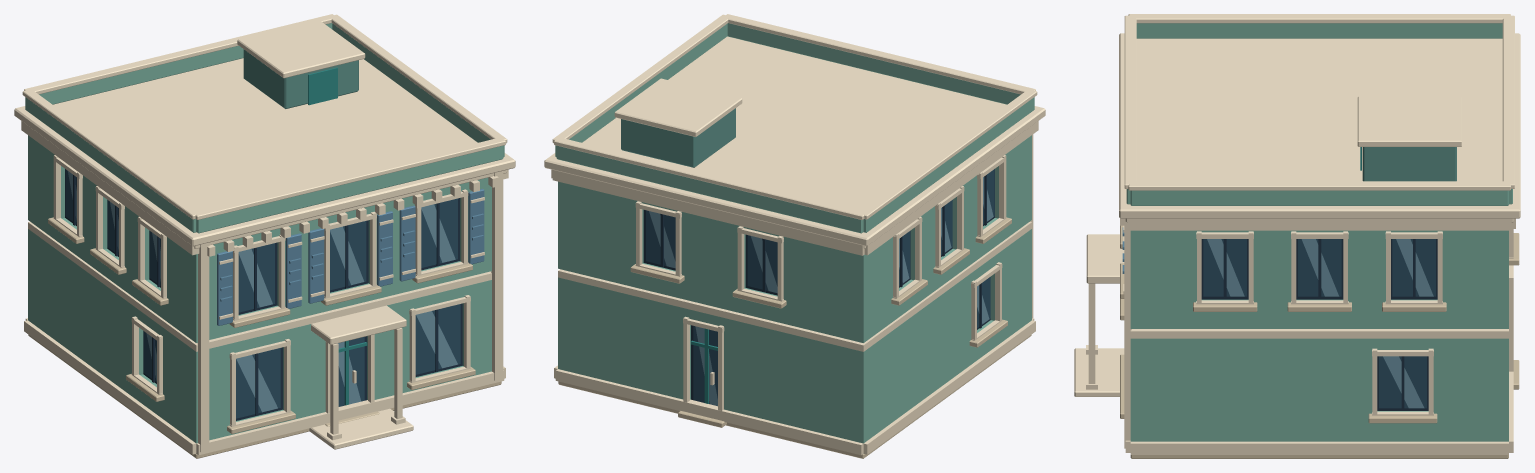
The model's file is wide_row_house.glb.
The picture shows the model from 3 angles, left to right: view 1: azimuth 30°, elevation 25°; view 2: azimuth 150°, elevation 25°; view 3: azimuth 270°, elevation 25°; orthographic projection. The views are drawn at different scales.
Visible parts, largest first — view 1: WideRowHouse_StaticMesh; view 2: WideRowHouse_StaticMesh; view 3: WideRowHouse_StaticMesh.
Part boxes in pixels (bbox=[...]): WideRowHouse_StaticMesh: bbox=[14, 14, 515, 458]; WideRowHouse_StaticMesh: bbox=[544, 14, 1045, 458]; WideRowHouse_StaticMesh: bbox=[1074, 14, 1520, 458].
Size of the model in its own units: 9.32 by 7.33 by 9.91.
